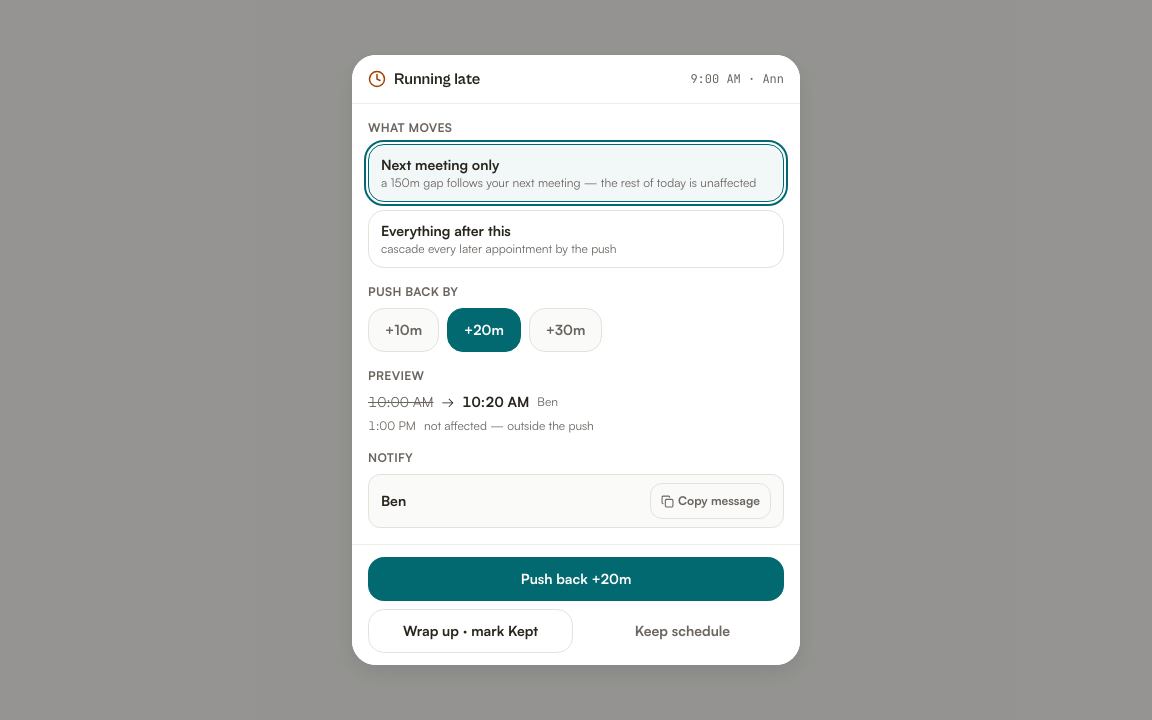
Test: RunningLateSheet — E3 › switching to "all" cascades every later appt
Click the radio button with test id "late-scope-all" at point(576, 239), box [368,210,784,268]
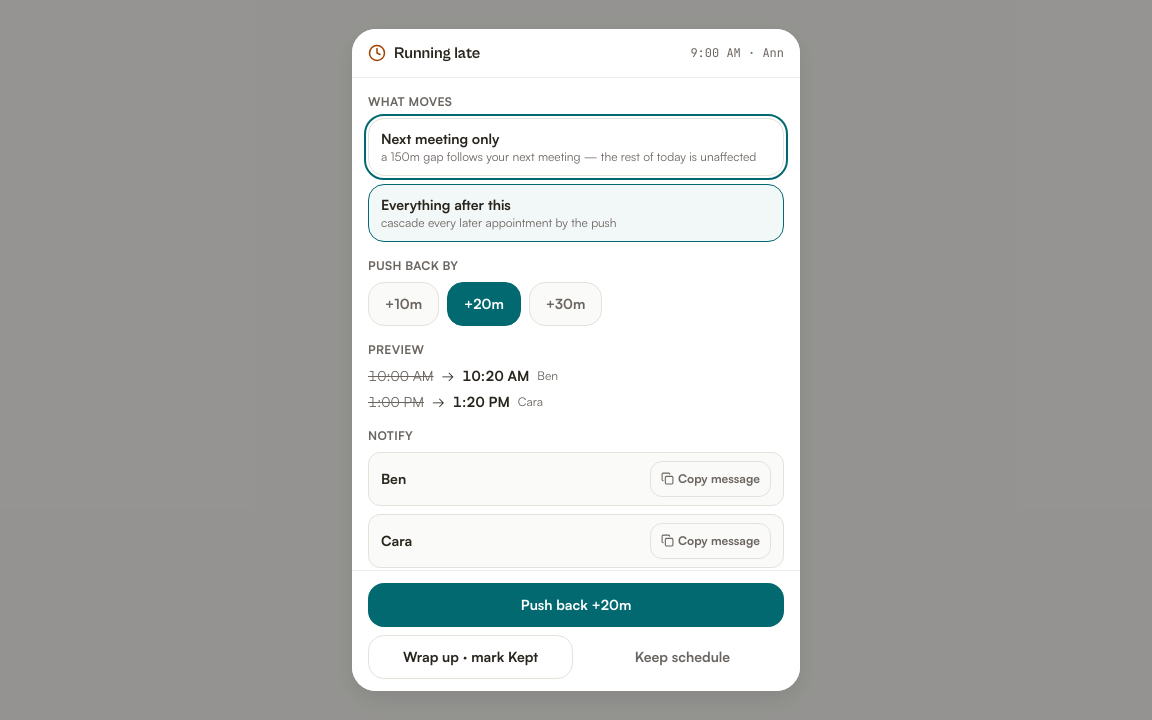
Expected: the list item with test id "late-affected-b" shows "10:20", [462,367,529,384]
Now the list item with test id "late-affected-c" shows "1:20", box [453,393,510,410]
Now the list item with test id "late-unaffected-c" is gone
